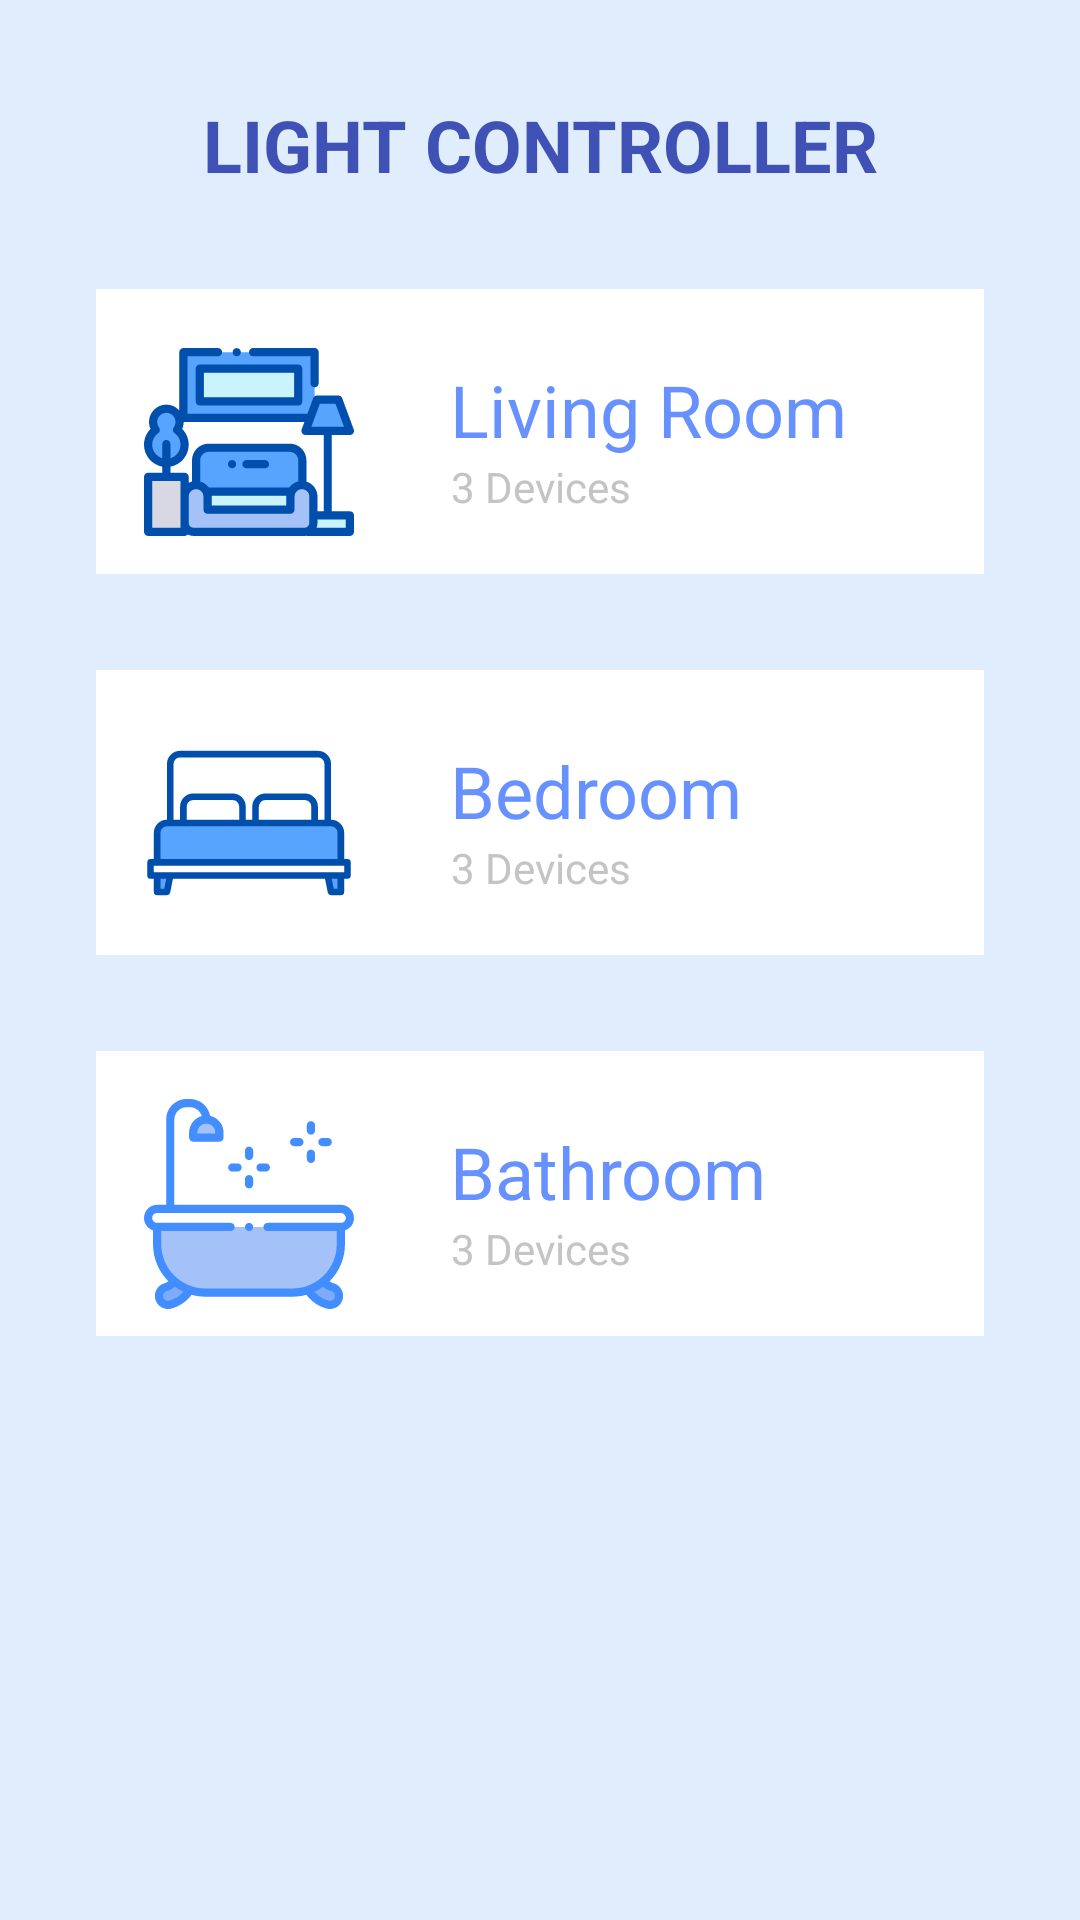

Named icons in this screenshot (1080*1920) and their bounding boxes, (x1, y1, x2, y2):
bed: (147, 750, 351, 896)
